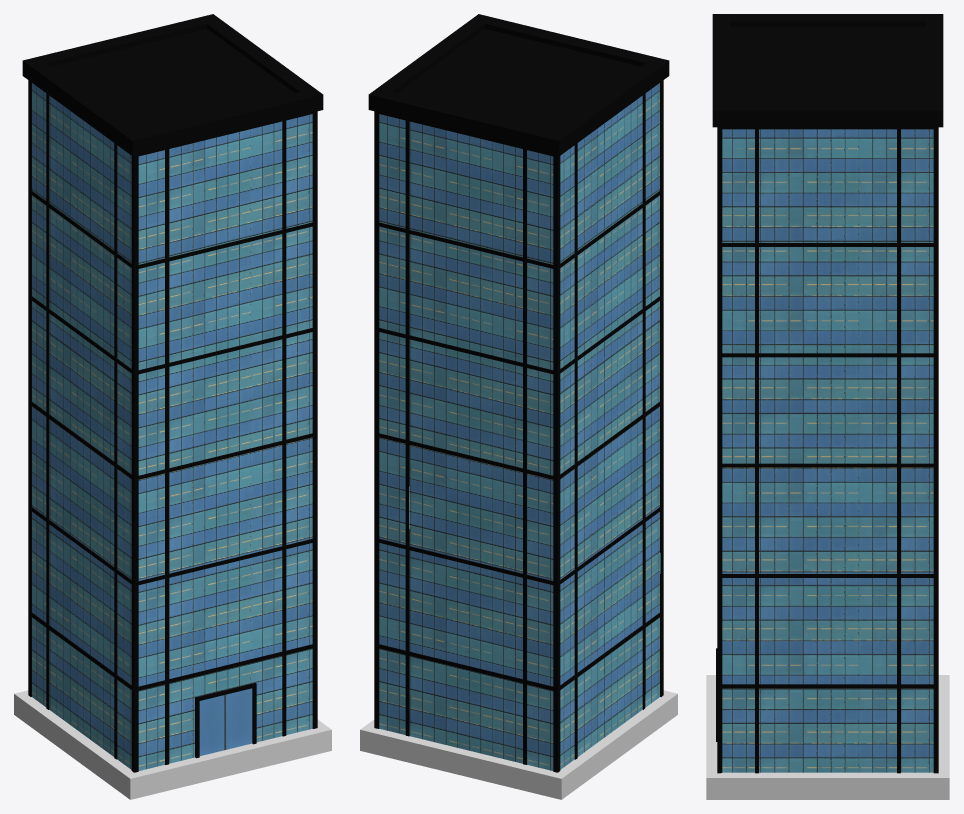
The model's file is MainSkyscraper.fbx.
3 renders of one model, left to right at view 1: azimuth 30°, elevation 25°; view 2: azimuth 150°, elevation 25°; view 3: azimuth 270°, elevation 25°, orthographic. The views are drawn at different scales.
Parts seen in each view (by area): view 1: MainBuilding, TileSize; view 2: MainBuilding, TileSize; view 3: MainBuilding, TileSize.
Boxes of the visible parts, left/top/right/bottom form: MainBuilding: left=22, top=14, right=323, bottom=772; TileSize: left=14, top=690, right=331, bottom=799; MainBuilding: left=368, top=14, right=669, bottom=772; TileSize: left=360, top=690, right=677, bottom=799; MainBuilding: left=712, top=14, right=943, bottom=773; TileSize: left=706, top=675, right=949, bottom=799.
Size of the model in its own units: 1000 by 3107 by 1000.
4 materials, 2 textured.
